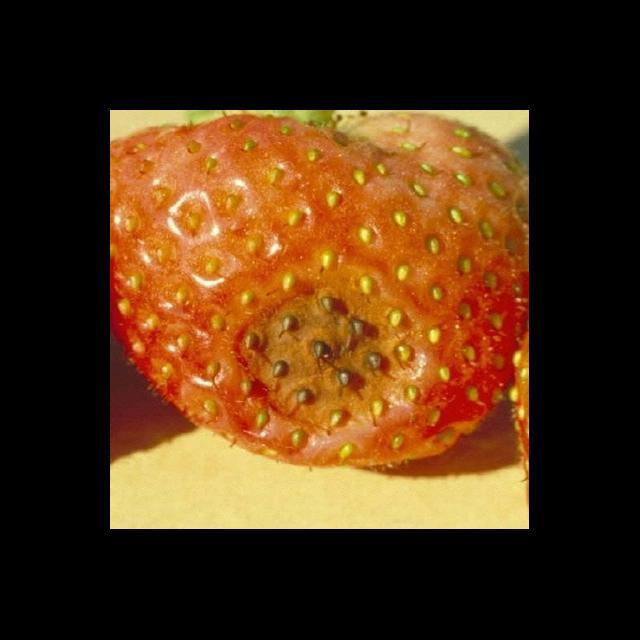Anthracnose Fruit Rot: (229, 267, 439, 443)
